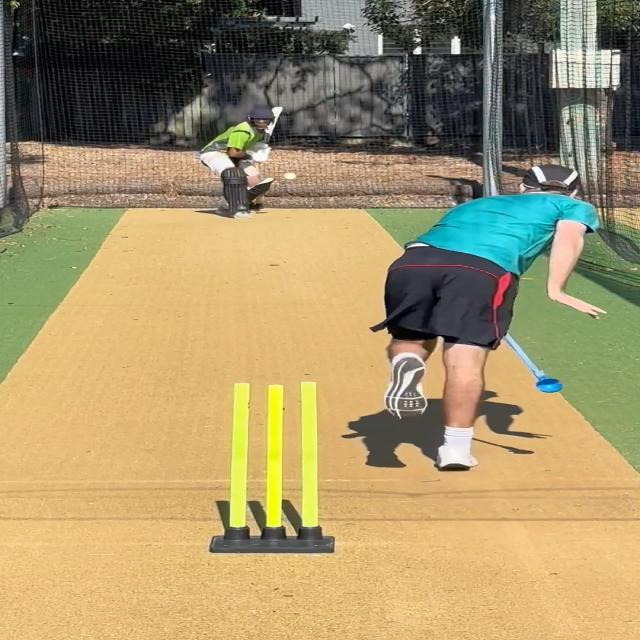ball: (280, 170, 299, 182)
stump: (208, 381, 336, 554)
